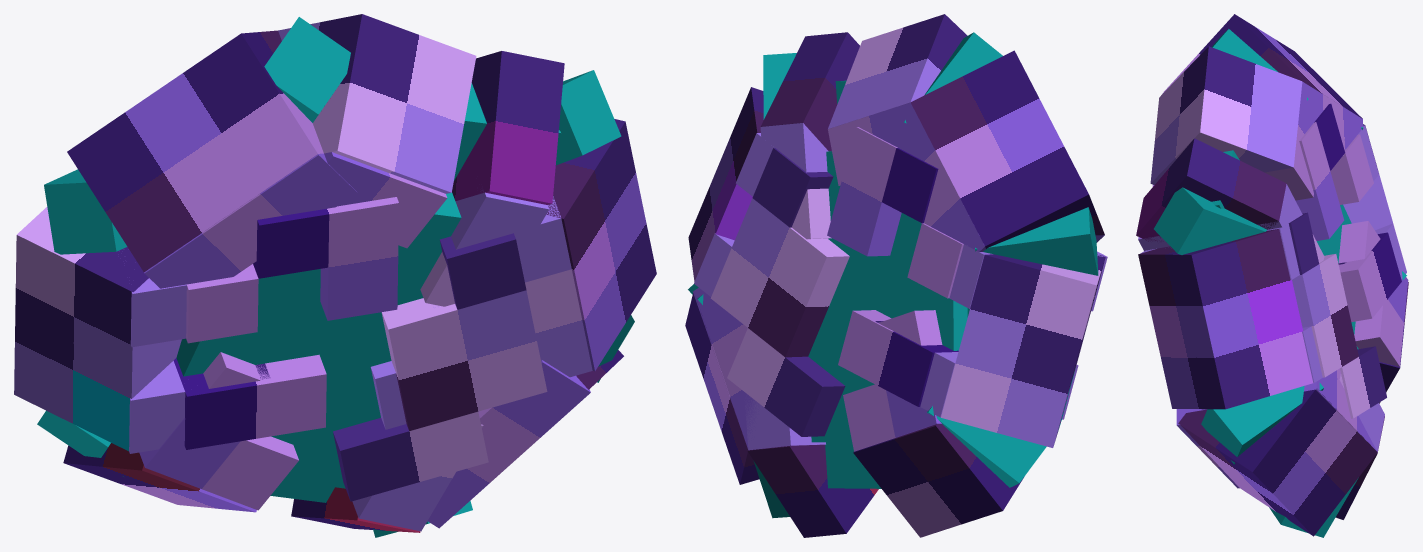
File: maelvorite_fract03.gltf
3 views of the same model, side by side, from view 1: azimuth 30°, elevation 25°; view 2: azimuth 150°, elevation 25°; view 3: azimuth 270°, elevation 25° (orthographic). The views are drawn at different scales.
Visible parts, largest first — view 1: bevel01_2$$(8)-Local, diamond_small_back$$(1)-Local, diamond_small_back$$(2)-Local, bevel02B$$(2)-Local, bevel01_2$$(9)-Local, inner$$glow 02-Local, bevel03B$$(1)-Local, bevel01_2$$(5)-Local, face01B_back$$(2)-Local, face02Bottom$$(1)-Local, face04_back$$(2)-Local, face04A_back$$(1)-Local (+11 smaller); view 2: maelvorite_02-Local, bevel02B$$(2)-Local, bevel01_2$$(8)-Local, maelvorite_01-Local, inner$$glow 02-Local, bevel01_2$$(11)-Local, bevel01_2$$(9)-Local, bevel01_2$$(7)-Local, bevel01_2$$(5)-Local, bevel03B$$(1)-Local, face04$$(2)-Local, corner_b$$(16)-Local (+13 smaller); view 3: bevel03B$$(1)-Local, bevel01_2$$(9)-Local, bevel01_2$$(6)-Local, maelvorite_01-Local, maelvorite_02-Local, bevel01_2$$(5)-Local, corner_b$$(11)-Local, face04$$(2)-Local, corner_b$$(8)-Local, bevel01_2$$(8)-Local, face01$$(2)-Local, bevel02B$$(2)-Local (+12 smaller).
Part boxes in pixels (x1,y1,x2,y2): bevel01_2$$(8)-Local: (67,30,323,271); diamond_small_back$$(1)-Local: (333,233,547,501); diamond_small_back$$(2)-Local: (173,197,398,449); bevel02B$$(2)-Local: (14,207,181,451); bevel01_2$$(9)-Local: (278,14,476,193); inner$$glow 02-Local: (176,192,461,488); bevel03B$$(1)-Local: (546,119,656,371); bevel01_2$$(5)-Local: (452,51,564,204); face01B_back$$(2)-Local: (144,153,357,288); face02Bottom$$(1)-Local: (370,196,592,429); face04_back$$(2)-Local: (139,352,298,510); face04A_back$$(1)-Local: (427,360,590,528); maelvorite_02-Local: (710,148,849,436); bevel02B$$(2)-Local: (941,254,1105,447); bevel01_2$$(8)-Local: (910,50,1104,248); maelvorite_01-Local: (827,127,963,406); inner$$glow 02-Local: (808,151,967,442); bevel01_2$$(11)-Local: (853,424,1023,537); bevel01_2$$(9)-Local: (828,14,967,128); bevel01_2$$(7)-Local: (747,444,878,537); bevel01_2$$(5)-Local: (760,32,859,151); bevel03B$$(1)-Local: (688,87,763,281); face04$$(2)-Local: (843,310,942,451); corner_b$$(16)-Local: (975,207,1098,275); bevel03B$$(1)-Local: (1138,229,1313,409); bevel01_2$$(9)-Local: (1150,46,1302,184); bevel01_2$$(6)-Local: (1178,389,1377,536); maelvorite_01-Local: (1296,103,1401,321); maelvorite_02-Local: (1288,212,1386,418); bevel01_2$$(5)-Local: (1136,138,1286,241); corner_b$$(11)-Local: (1154,187,1266,254); face04$$(2)-Local: (1338,221,1408,366); corner_b$$(8)-Local: (1201,383,1323,464); bevel01_2$$(8)-Local: (1163,14,1362,118); face01$$(2)-Local: (1265,82,1322,200); bevel02B$$(2)-Local: (1343,124,1406,271).
Size of the model in its own units: 9.18 by 9.22 by 5.13.
Materials: 36 (36 with a texture image).
